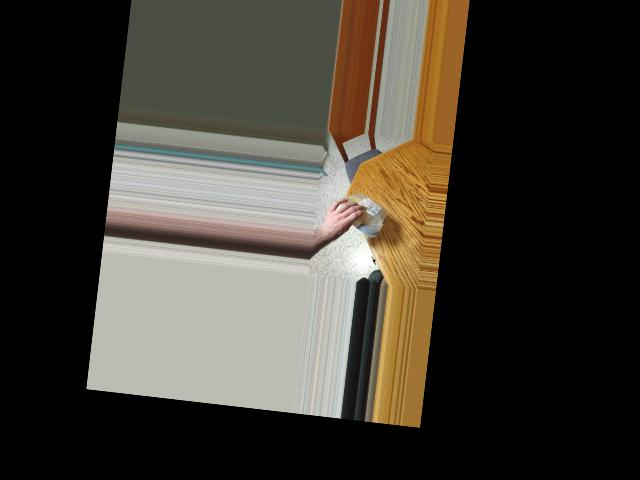cheese: (341, 193, 385, 226)
